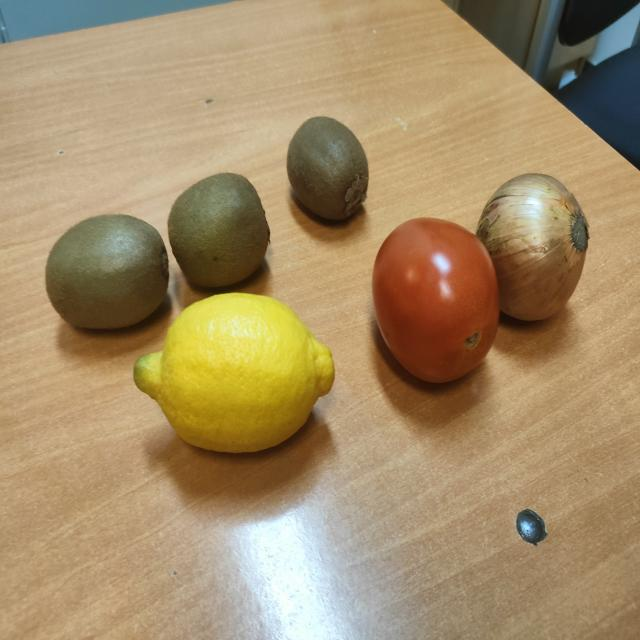kiwi: (134, 293, 335, 452), (46, 215, 169, 328), (168, 173, 270, 287), (286, 117, 369, 220)
